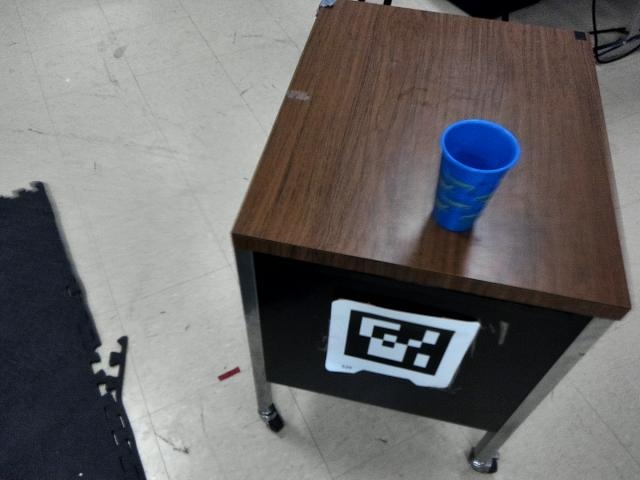water_cup: (421, 112, 523, 240)
